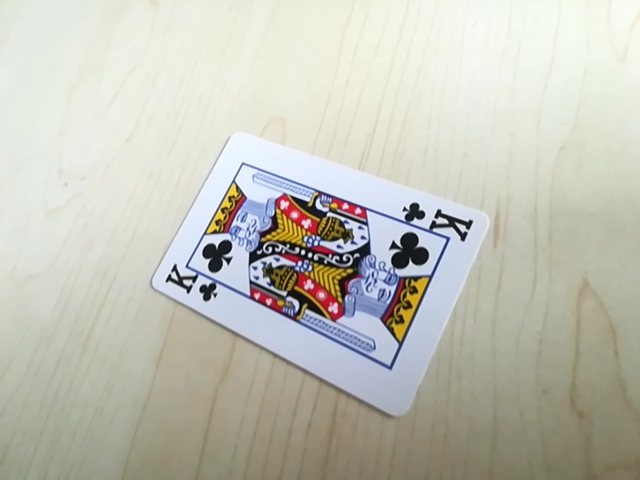mh k: (393, 200, 480, 236), (162, 270, 221, 306)
